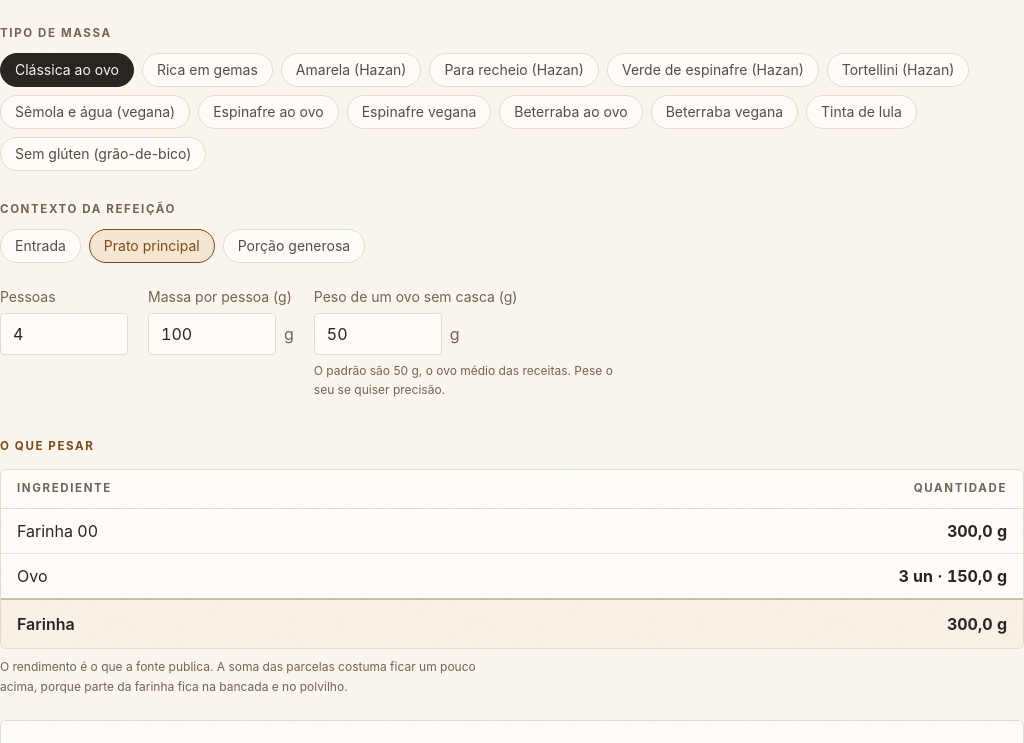
Test: calculadora de massa fresca › troca os gramas por pessoa ao mudar o contexto da refeição
Click the button "Entrada" at [40, 246], box [0,229,81,263]
(page scrolled)
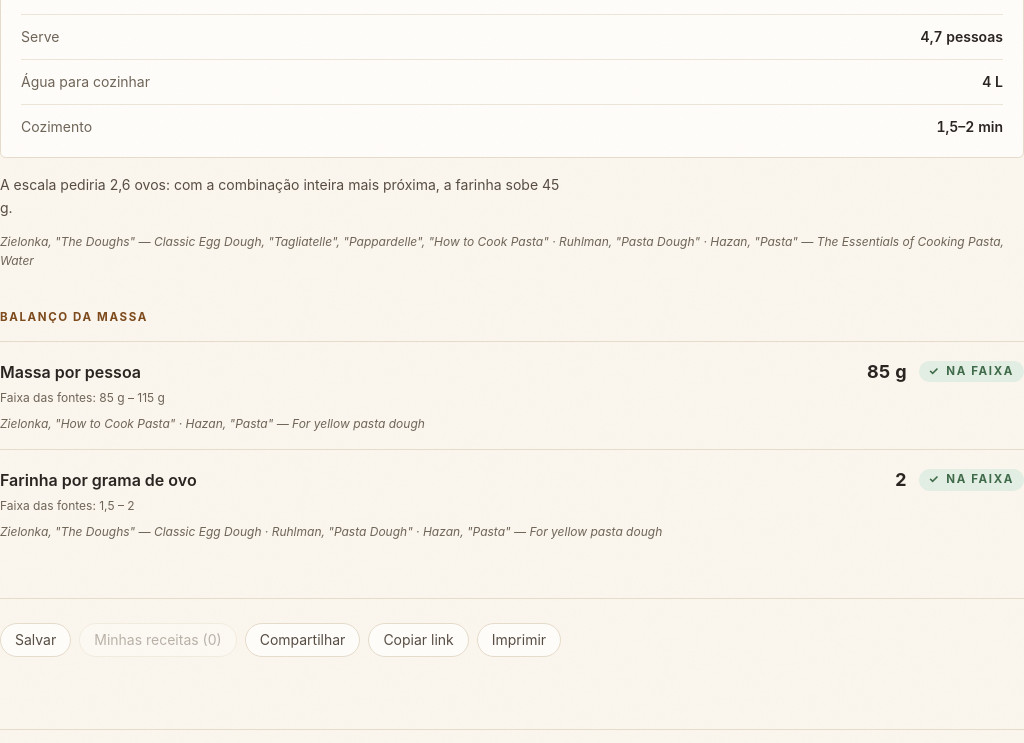
Now the text "85 g" is shown, box [867,358,907,386]
